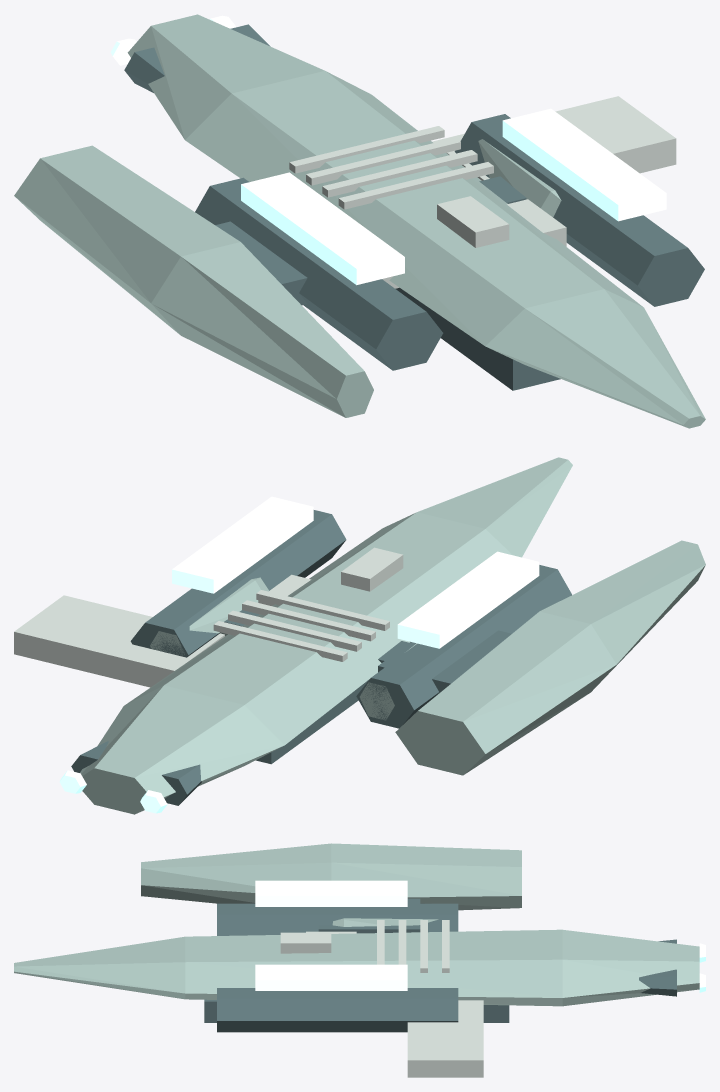
The picture shows the model from 3 angles, top to bottom: view 1: azimuth 30°, elevation 25°; view 2: azimuth 150°, elevation 25°; view 3: azimuth 270°, elevation 25°; orthographic projection. The views are drawn at different scales.
Size of the model in its own units: 6.43 by 1.29 by 10.03.
